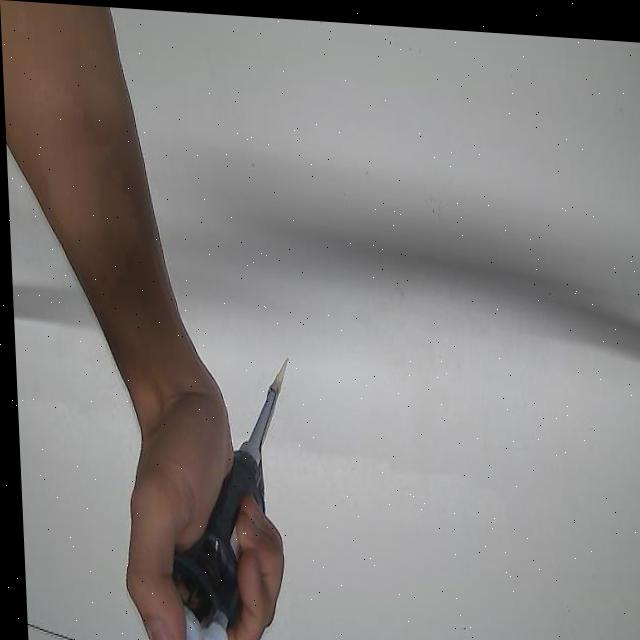Micropipette Tip 200 uL: (266, 350, 287, 394)
Single Channel Pipettor: (150, 370, 287, 640)
